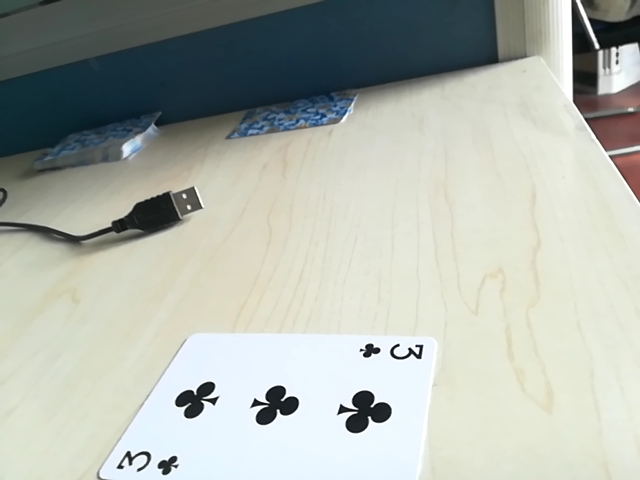mh 3: (109, 444, 178, 479), (357, 336, 425, 366)
